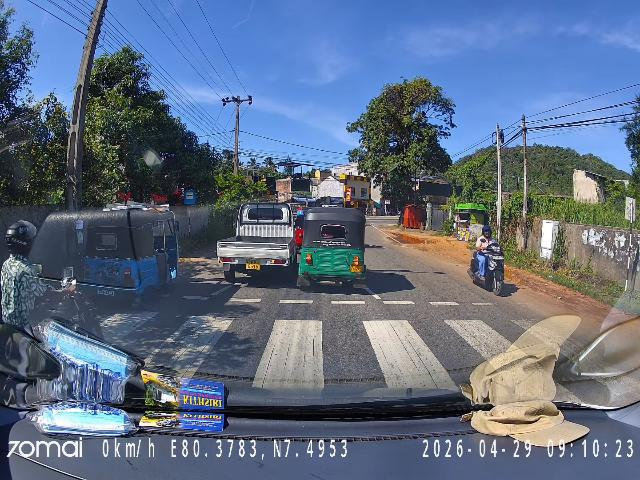illegal overtaking: (0, 217, 90, 338), (94, 196, 189, 293), (303, 206, 369, 291)
number plate: (493, 254, 506, 261)
